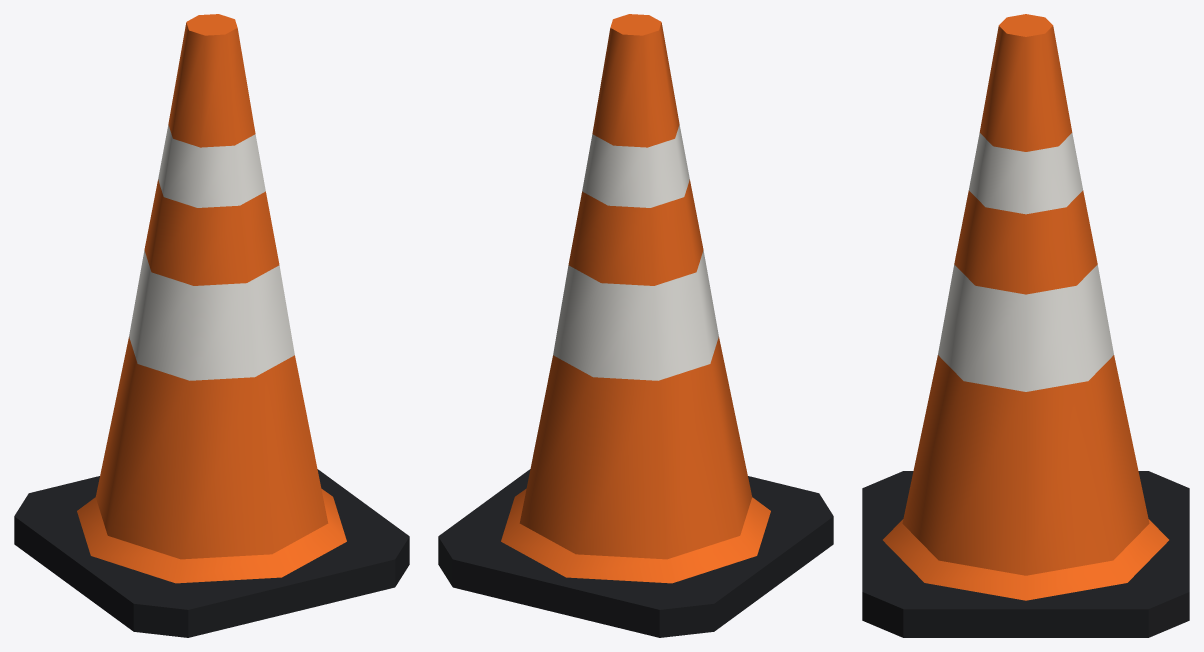
Rendered from prop_cone.glb.
The picture shows the model from 3 angles, left to right: view 1: azimuth 30°, elevation 25°; view 2: azimuth 150°, elevation 25°; view 3: azimuth 270°, elevation 25°; orthographic projection. The views are drawn at different scales.
Parts seen in each view (by area): view 1: prop_cone__mesh; view 2: prop_cone__mesh; view 3: prop_cone__mesh.
Boxes of the visible parts, <box> form: prop_cone__mesh: <box>14,14,409,637</box>; prop_cone__mesh: <box>438,14,833,637</box>; prop_cone__mesh: <box>862,14,1189,637</box>.
Size of the model in its own units: 0.36 by 0.66 by 0.36.
1 material, 1 textured.
